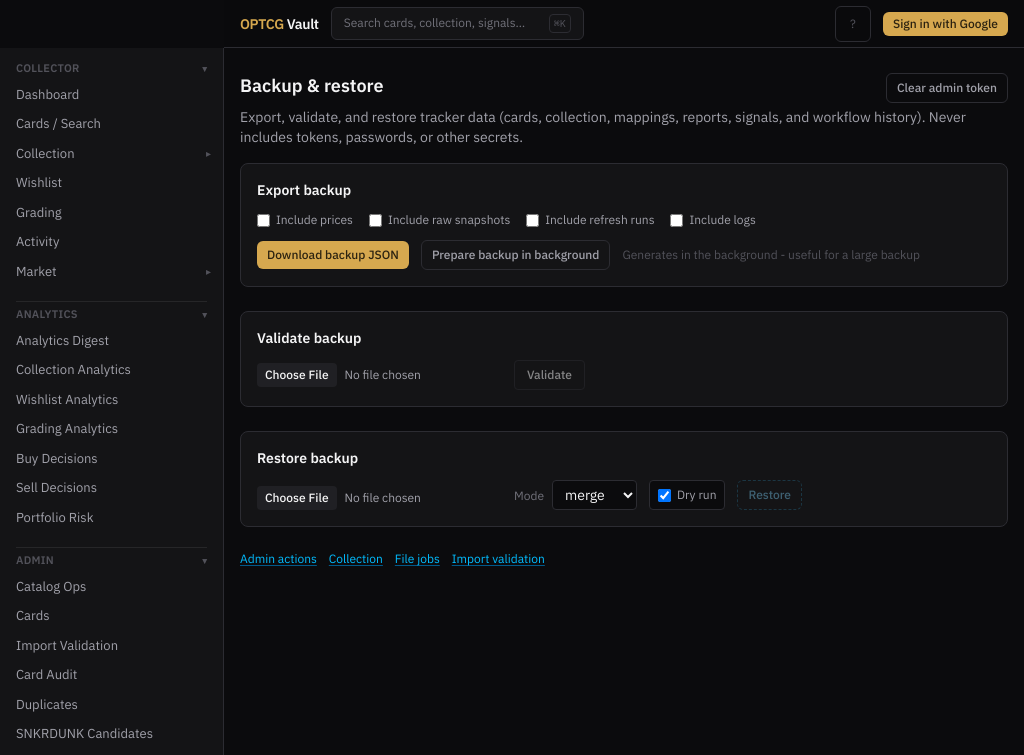
AdminBackupPage background export › shows an error state when job creation fails
Click the button "Prepare backup in background" at coordinates (516, 255), box x1=421 y1=240 x2=610 y2=270
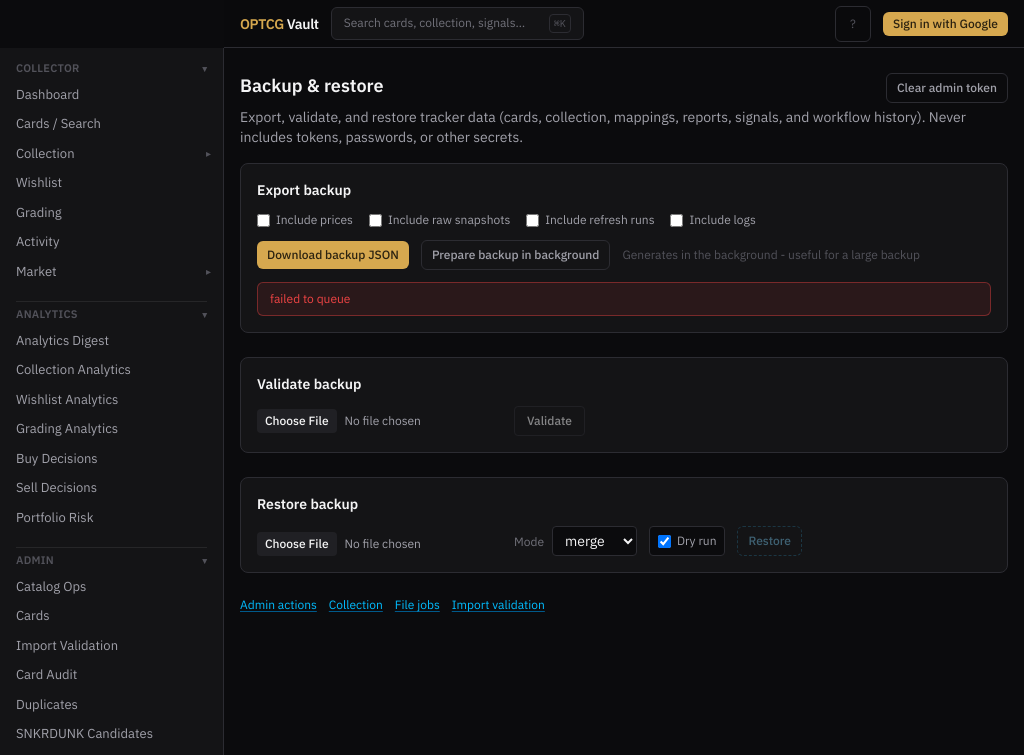
Expected: the text "failed to queue" is shown, x1=257 y1=282 x2=991 y2=316
